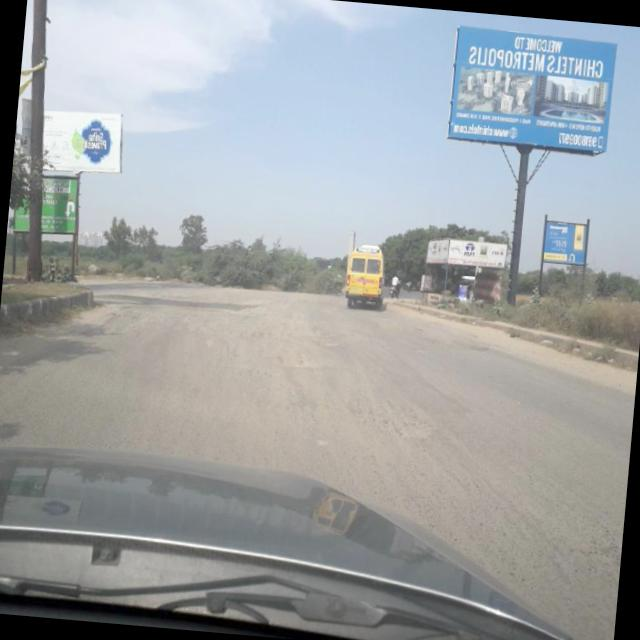pothole: (342, 395, 443, 454), (237, 306, 374, 348), (272, 344, 332, 376)
